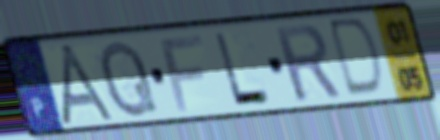A: (58, 41, 121, 127)
D: (327, 15, 387, 100)
F: (157, 31, 207, 114)
L: (211, 30, 275, 108)
Q: (97, 37, 161, 120)
R: (269, 21, 344, 104)
